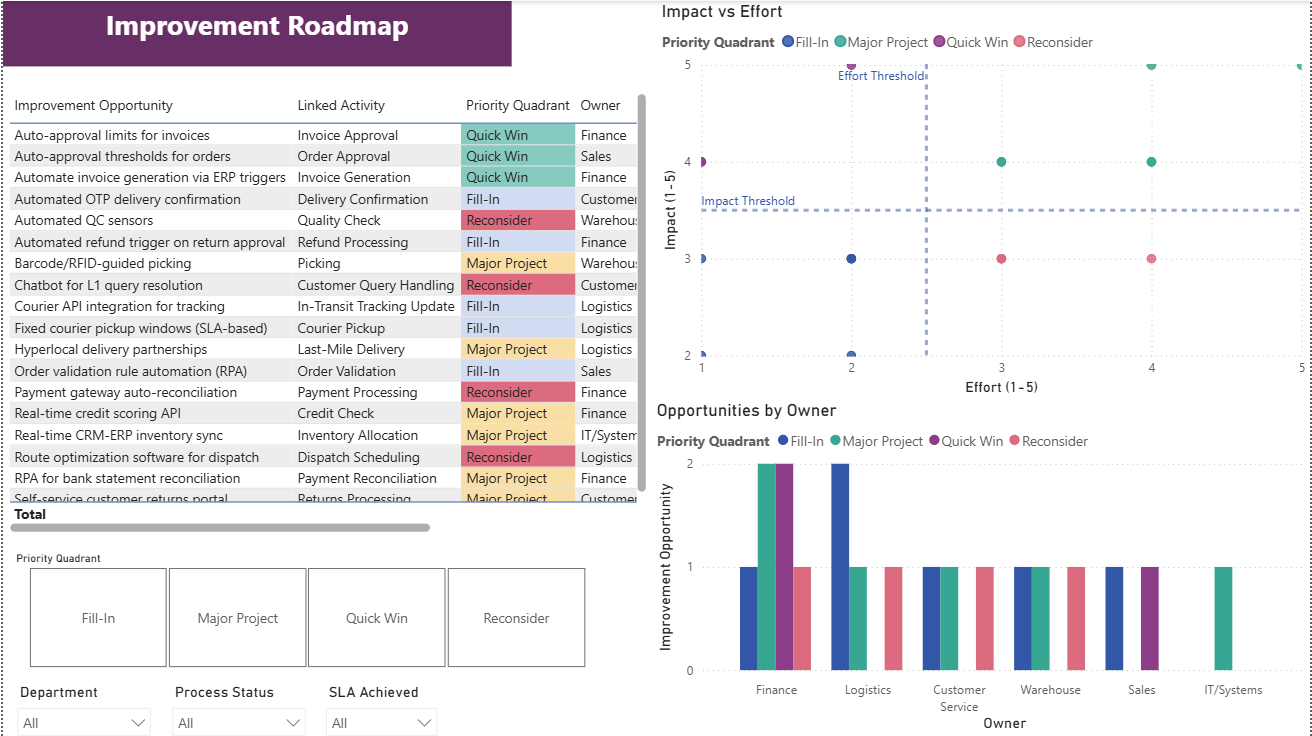

This screenshot's page, from the dashboard's own definition file:
{"tool":"powerbi","page":{"name":"Improvement Roadmap","canvas":[1280,720],"ordinal":3},"visuals":[{"type":"slicer","fields":{"Values":["Raw_Dataset.Department"]},"box":[4.1,662.4,150.9,57.6],"z":0},{"type":"slicer","fields":{"Values":["Raw_Dataset.Process Status"]},"box":[155.1,662.4,150.9,57.6],"z":1000},{"type":"slicer","fields":{"Values":["Raw_Dataset.SLA Achieved"]},"box":[306,662.4,129,57.6],"z":2000},{"type":"scatterChart","title":"Impact vs Effort","fields":{"X":["Sum(Improvement_Matrix.Effort (1-5))"],"Y":["Sum(Improvement_Matrix.Impact (1-5))"],"Series":["Improvement_Matrix.Priority Quadrant"],"Category":["Improvement_Matrix.Improvement Opportunity"]},"box":[640,0,640,390.6],"z":3000},{"type":"tableEx","fields":{"Values":["Improvement_Matrix.Improvement Opportunity","Improvement_Matrix.Linked Activity","Improvement_Matrix.Priority Quadrant","Improvement_Matrix.Owner","Sum(Improvement_Matrix.Impact (1-5))","Sum(Improvement_Matrix.Effort (1-5))"]},"box":[0,85.5,634.3,439],"z":4000},{"type":"slicer","fields":{"Values":["Improvement_Matrix.Priority Quadrant"]},"box":[0,532.6,593.2,125.6],"z":4001},{"type":"clusteredColumnChart","title":"Opportunities by Owner","fields":{"Category":["Improvement_Matrix.Owner"],"Y":["CountNonNull(Improvement_Matrix.Improvement Opportunity)"],"Series":["Improvement_Matrix.Priority Quadrant"]},"box":[634.3,390.6,645.7,329.3],"z":4002},{"type":"textbox","box":[0,0,497.5,64.1],"z":4003}]}

Visuals, with their boxes in screenshot pixels (x1, y1, x2, y2), scaled from the page's 1280x720 canvas onto the 1312x736 screenshot:
slicer - Raw_Dataset.Department: {"left": 4, "top": 677, "right": 159, "bottom": 735}
slicer - Raw_Dataset.Process Status: {"left": 159, "top": 677, "right": 314, "bottom": 735}
slicer - Raw_Dataset.SLA Achieved: {"left": 314, "top": 677, "right": 446, "bottom": 735}
"Impact vs Effort" scatterChart: {"left": 656, "top": 0, "right": 1311, "bottom": 399}
tableEx - Improvement_Matrix.Improvement Opportunity x Improvement_Matrix.Linked Activity: {"left": 0, "top": 87, "right": 650, "bottom": 536}
slicer - Improvement_Matrix.Priority Quadrant: {"left": 0, "top": 544, "right": 608, "bottom": 673}
"Opportunities by Owner" clusteredColumnChart: {"left": 650, "top": 399, "right": 1311, "bottom": 735}
textbox: {"left": 0, "top": 0, "right": 510, "bottom": 66}
